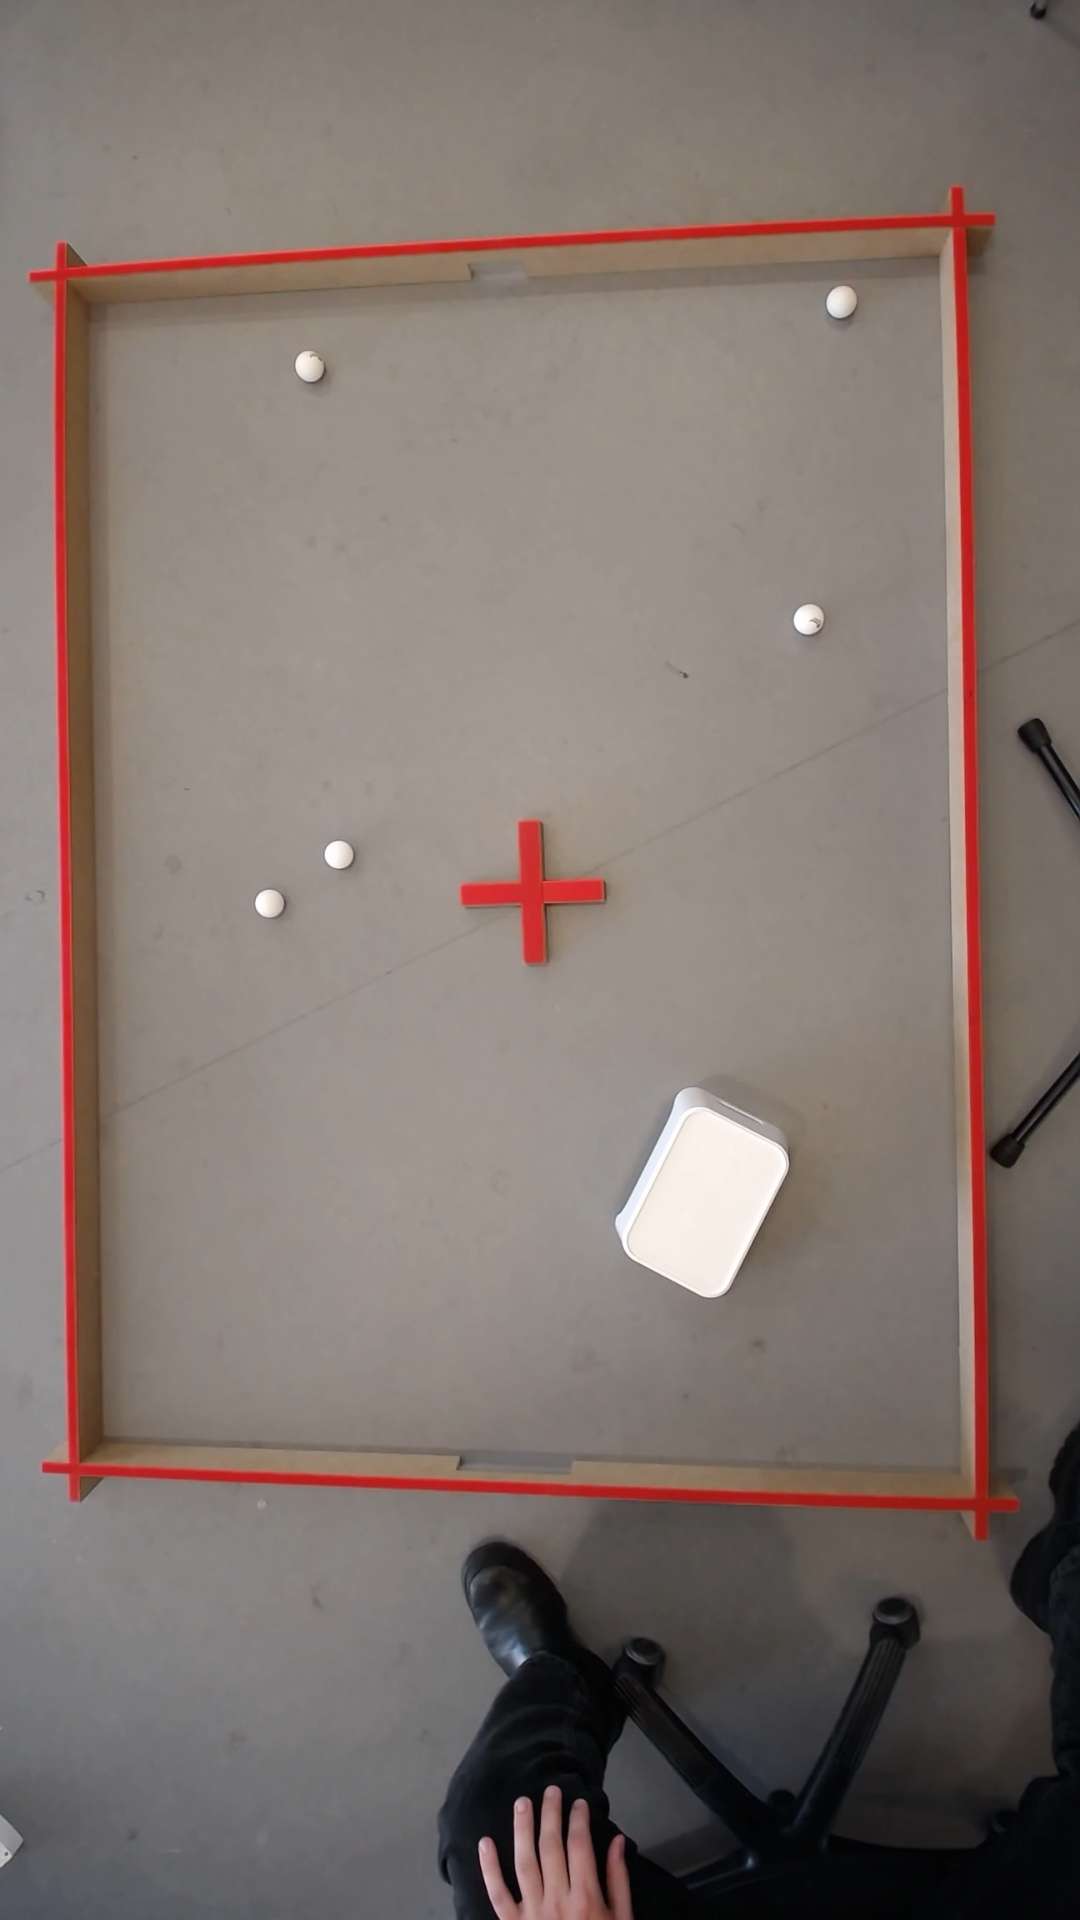balls: (600, 1089, 796, 1304), (287, 347, 324, 382), (820, 281, 853, 319), (248, 884, 282, 919), (324, 840, 348, 868)
car: (514, 1833, 522, 1861)
